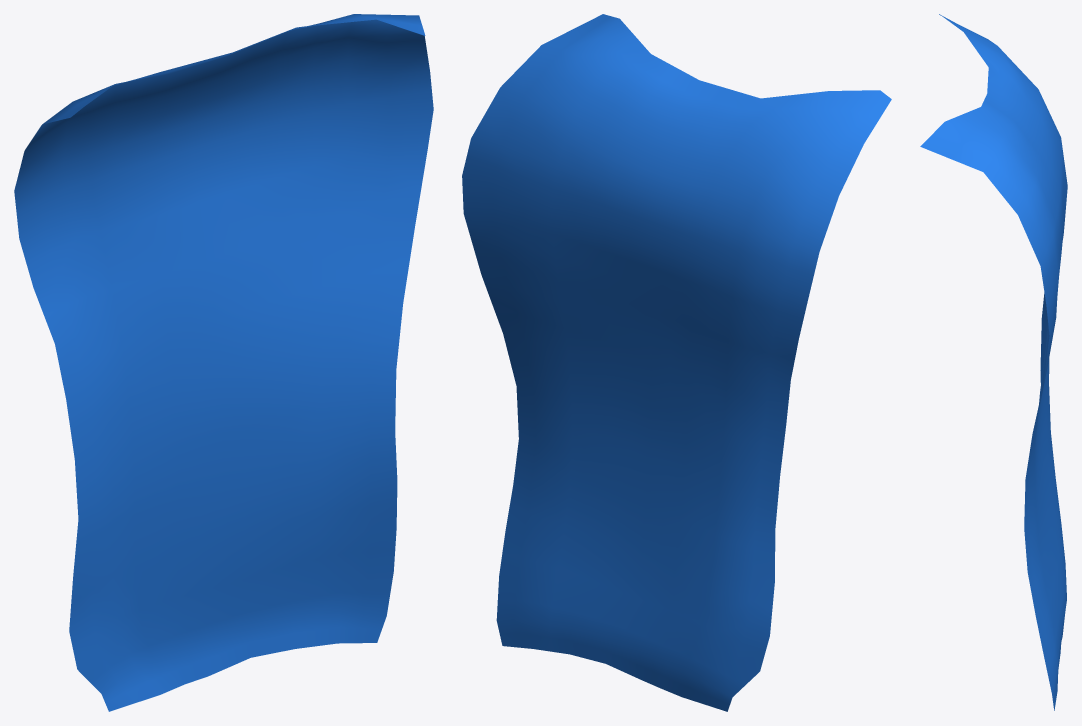
Rendered from cape.FBX.
The picture shows the model from 3 angles, left to right: view 1: azimuth 30°, elevation 25°; view 2: azimuth 150°, elevation 25°; view 3: azimuth 270°, elevation 25°; orthographic projection. The views are drawn at different scales.
Parts seen in each view (by area): view 1: Cape; view 2: Cape; view 3: Cape.
Part boxes in pixels (x1,y1,x2,y2): Cape: (14,14,433,711); Cape: (462,14,891,711); Cape: (920,14,1067,710).
Size of the model in its own units: 6.11 by 9.5 by 2.23.
